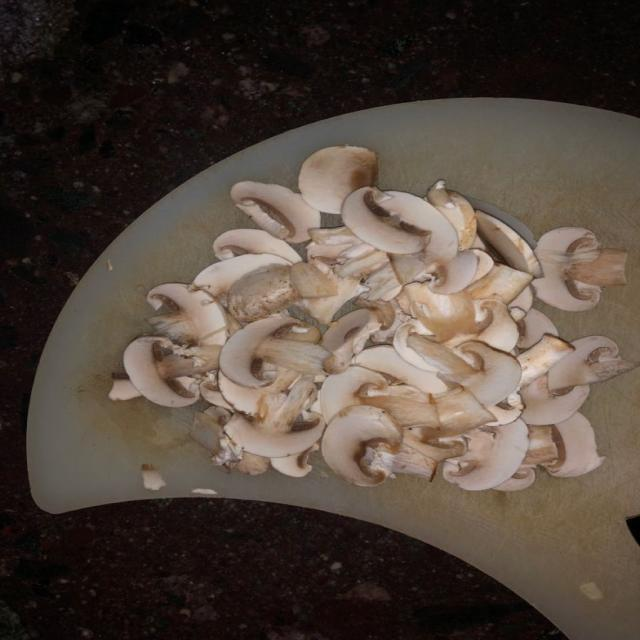champignon mushrooms: (109, 146, 639, 491), (322, 406, 436, 486), (341, 188, 458, 264), (225, 376, 325, 457), (407, 335, 521, 406), (220, 316, 330, 388), (534, 228, 626, 311), (123, 336, 218, 407), (227, 262, 337, 322), (443, 419, 528, 490), (231, 181, 319, 243), (299, 145, 378, 213), (548, 336, 639, 393), (147, 284, 226, 345), (399, 284, 476, 341), (476, 211, 542, 277), (354, 346, 446, 393), (297, 262, 366, 324), (194, 254, 290, 298), (227, 265, 299, 322), (321, 309, 381, 373), (546, 413, 604, 477), (219, 369, 299, 415), (426, 180, 476, 250), (520, 375, 589, 424), (190, 407, 241, 468), (518, 335, 575, 387), (214, 229, 301, 262), (466, 264, 533, 304), (517, 309, 558, 349), (271, 443, 319, 477), (200, 372, 233, 410), (233, 452, 270, 474), (108, 375, 140, 400)
